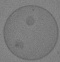small: (25, 16, 35, 25), (15, 41, 24, 49)
